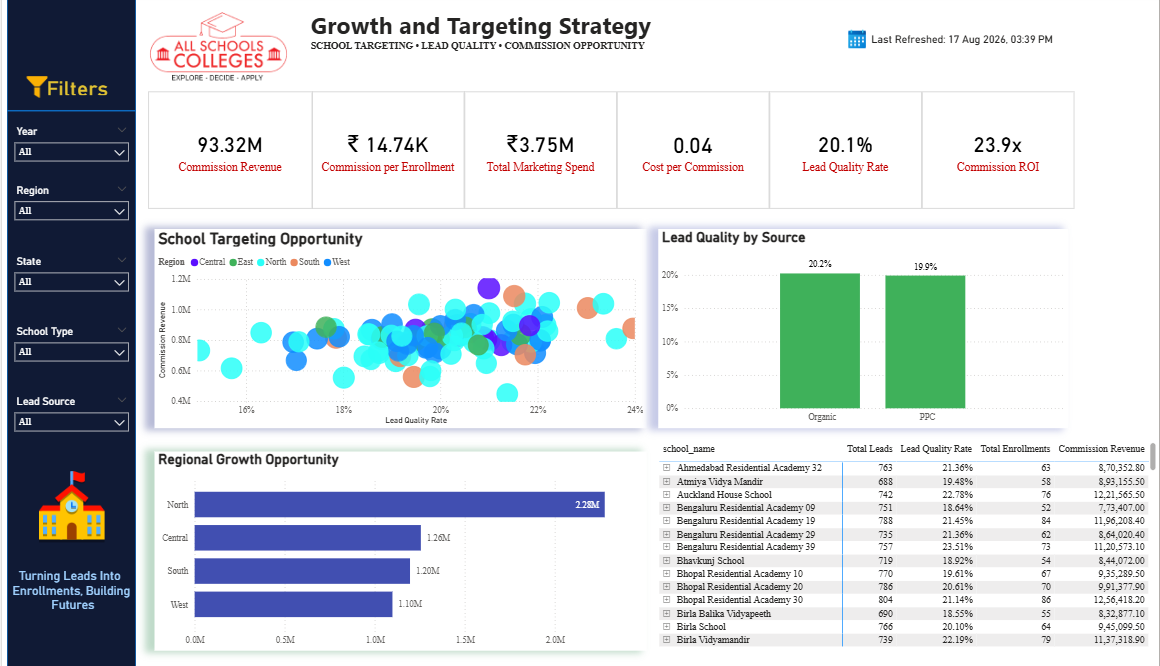

This screenshot's page, from the dashboard's own definition file:
{"tool":"powerbi","page":{"name":"Growth & Targeting Strategy","canvas":[1580,920],"ordinal":4},"visuals":[{"type":"shape","box":[7.7,6.8,176,928],"z":0},{"type":"card","fields":{"Values":["KPI_Measures.Commission Revenue"]},"box":[199.7,133.3,224,160],"z":1000},{"type":"card","fields":{"Values":["KPI_Measures.Commission per Enrollment"]},"box":[423.7,133.3,208,160],"z":2000},{"type":"card","fields":{"Values":["KPI_Measures.Total Marketing Spend"]},"box":[631.7,133.3,208,160],"z":3000},{"type":"card","fields":{"Values":["KPI_Measures.Cost per Commission"]},"box":[839.7,133.3,208,160],"z":4000},{"type":"card","fields":{"Values":["KPI_Measures.Lead Quality Rate"]},"box":[1047.7,133.3,208,160],"z":5000},{"type":"scatterChart","title":"School Targeting Opportunity","fields":{"X":["KPI_Measures.Lead Quality Rate"],"Y":["KPI_Measures.Commission Revenue"],"Size":["KPI_Measures.Total Leads"],"Category":["dim_school.school_name"],"Series":["dim_school.Region"]},"box":[208,320,672,272],"z":6000},{"type":"clusteredColumnChart","title":"Lead Quality by Source","fields":{"Category":["fact_leads.Lead Source"],"Y":["KPI_Measures.Lead Quality Rate"]},"box":[896,320,560,272],"z":7000},{"type":"clusteredBarChart","title":"Regional Growth Opportunity","fields":{"Category":["dim_school.Region"],"Y":["KPI_Measures.Commission Revenue"]},"box":[208,624,672,272],"z":8000},{"type":"image","box":[23.7,110.8,48,32],"z":10000},{"type":"card","fields":{"Values":["KPI_Measures.filter"]},"box":[39.7,110.8,128,32],"z":11000},{"type":"shape","box":[7.7,142.8,176,32],"z":12000},{"type":"card","fields":{"Values":["KPI_Measures.Commission ROI"]},"box":[1255.7,133.3,208,160],"z":13000},{"type":"slicer","fields":{"Values":["Dim_Date.Year"]},"box":[7.7,174.8,176,64],"z":14000},{"type":"slicer","fields":{"Values":["dim_school.region"]},"box":[7.7,254.8,176,64],"z":15000},{"type":"slicer","fields":{"Values":["dim_school.state"]},"box":[7.7,350.8,176,64],"z":16000},{"type":"slicer","fields":{"Values":["dim_school.school_type"]},"box":[7.7,446.8,176,64],"z":17000},{"type":"slicer","fields":{"Values":["fact_leads.lead_source"]},"box":[7.7,542.8,176,64],"z":18000},{"type":"image","box":[39.7,622.8,112,160],"z":19000},{"type":"image","box":[199.7,14.8,192,112],"z":20000},{"type":"textbox","box":[416,16,608,112],"z":21000},{"type":"card","fields":{"Values":["KPI_Measures.Last Refresh"]},"box":[1159.7,30.8,304,64],"z":22000},{"type":"image","box":[1143.7,46.8,48,32],"z":23000},{"type":"card","fields":{"Values":["KPI_Measures.Quote"]},"box":[7.7,766.8,176,96],"z":24000},{"type":"pivotTable","title":"School Revenue vs Enrollment","fields":{"Rows":["dim_school.school_name","dim_school.Region","dim_school.State"],"Values":["KPI_Measures.Total Leads","KPI_Measures.Lead Quality Rate","KPI_Measures.Total Enrollments","KPI_Measures.Commission Revenue"]},"box":[892,608,688,288],"z":25000}]}

Visuals, with their boxes in screenshot pixels (x1, y1, x2, y2), scaled from the page's 1580x920 canvas onto the 1160x666 screenshot:
shape: [left=6, top=5, right=135, bottom=665]
card - KPI_Measures.Commission Revenue: [left=147, top=96, right=311, bottom=212]
card - KPI_Measures.Commission per Enrollment: [left=311, top=96, right=464, bottom=212]
card - KPI_Measures.Total Marketing Spend: [left=464, top=96, right=616, bottom=212]
card - KPI_Measures.Cost per Commission: [left=616, top=96, right=769, bottom=212]
card - KPI_Measures.Lead Quality Rate: [left=769, top=96, right=922, bottom=212]
"School Targeting Opportunity" scatterChart: [left=153, top=232, right=646, bottom=429]
"Lead Quality by Source" clusteredColumnChart: [left=658, top=232, right=1069, bottom=429]
"Regional Growth Opportunity" clusteredBarChart: [left=153, top=452, right=646, bottom=649]
image: [left=17, top=80, right=53, bottom=103]
card - KPI_Measures.filter: [left=29, top=80, right=123, bottom=103]
shape: [left=6, top=103, right=135, bottom=127]
card - KPI_Measures.Commission ROI: [left=922, top=96, right=1075, bottom=212]
slicer - Dim_Date.Year: [left=6, top=127, right=135, bottom=173]
slicer - dim_school.region: [left=6, top=184, right=135, bottom=231]
slicer - dim_school.state: [left=6, top=254, right=135, bottom=300]
slicer - dim_school.school_type: [left=6, top=323, right=135, bottom=370]
slicer - fact_leads.lead_source: [left=6, top=393, right=135, bottom=439]
image: [left=29, top=451, right=111, bottom=567]
image: [left=147, top=11, right=288, bottom=92]
textbox: [left=305, top=12, right=752, bottom=93]
card - KPI_Measures.Last Refresh: [left=851, top=22, right=1075, bottom=69]
image: [left=840, top=34, right=875, bottom=57]
card - KPI_Measures.Quote: [left=6, top=555, right=135, bottom=625]
"School Revenue vs Enrollment" pivotTable: [left=655, top=440, right=1159, bottom=649]
